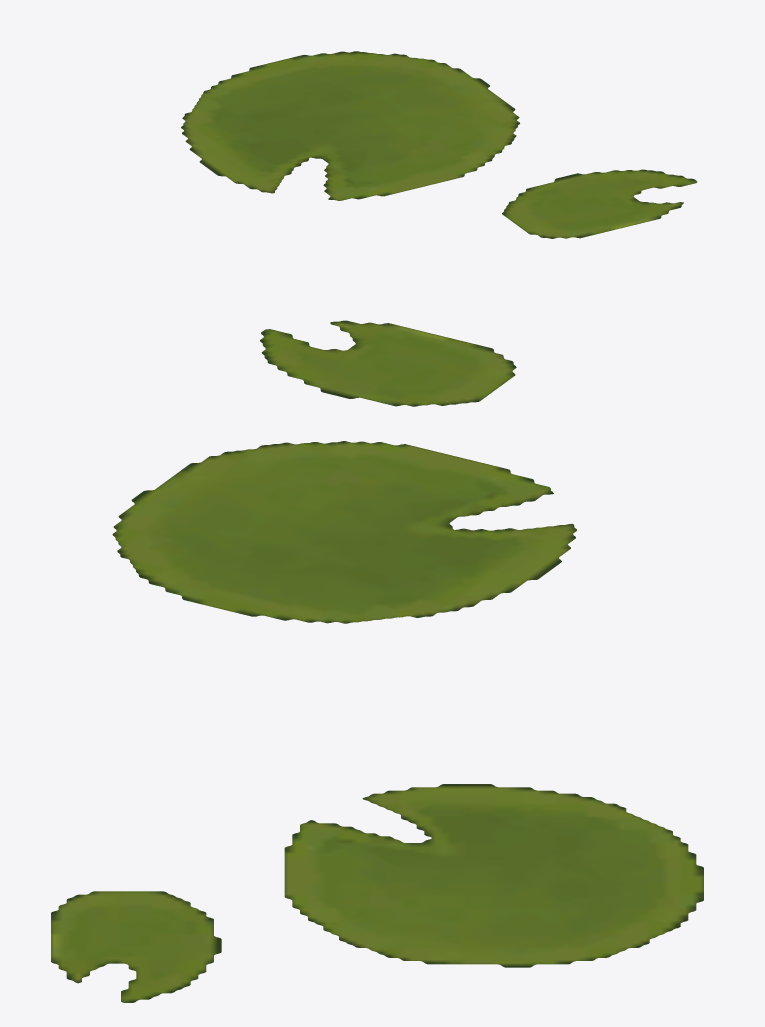
Rendered from lilypad_02.fbx.
3 renders of one model, top to bottom at view 1: azimuth 30°, elevation 25°; view 2: azimuth 150°, elevation 25°; view 3: azimuth 270°, elevation 25°, orthographic. The views are drawn at different scales.
Visible parts, largest first — view 1: obj0.105; view 2: obj0.105; view 3: obj0.105.
Boxes of the visible parts, <box> form: obj0.105: <box>181,51,697,238</box>; obj0.105: <box>112,320,576,623</box>; obj0.105: <box>51,784,703,1002</box>.
Bounding box in the file's own units: 1.54 × 4.05e-07 × 1.7.
